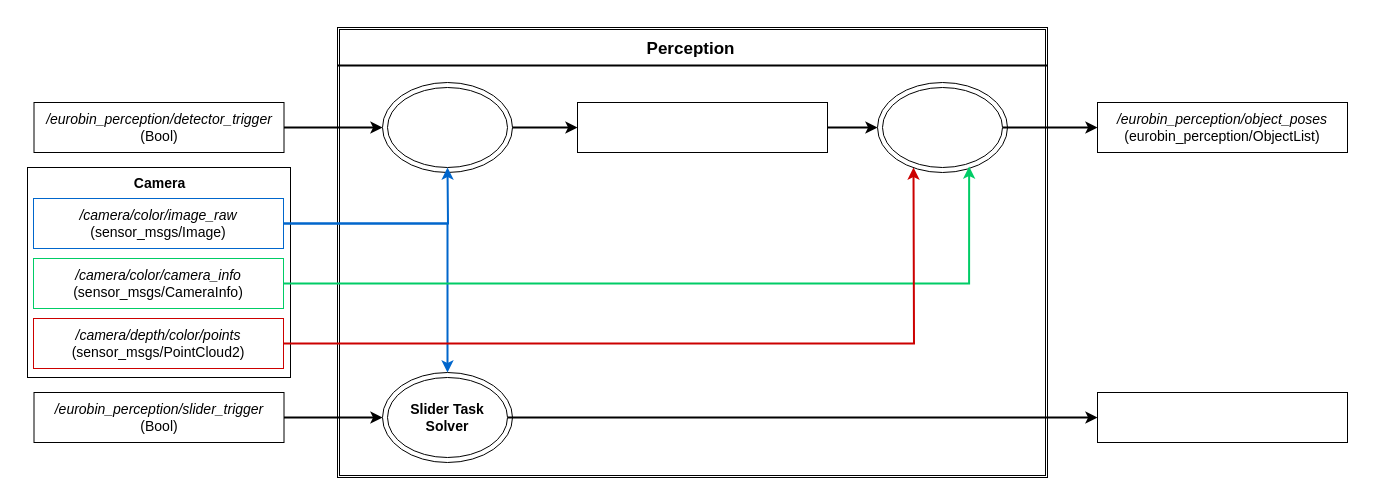
Some shapes in this 1374 by 504 pixel diagram are drawn without their labels. Each missing label, with the box of its shape:
/eurobin_perception/detection_result (eurobin_perception/BoundingBoxList): (576, 102, 828, 152)
/eurobin_perception/slider_solver_result (std_msgs/Float32): (1096, 392, 1348, 442)
CNN Detector: (386, 86, 508, 168)
Pose Estimator: (882, 86, 1002, 168)
